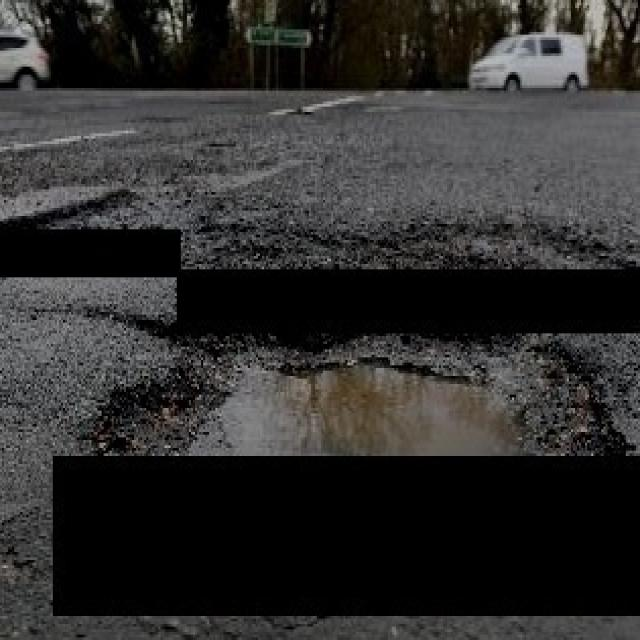road-pothole: (90, 334, 622, 454)
